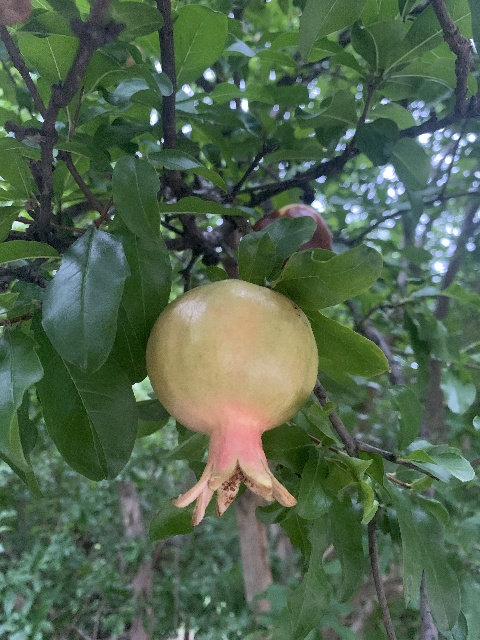mid-growth: (144, 278, 319, 526)
